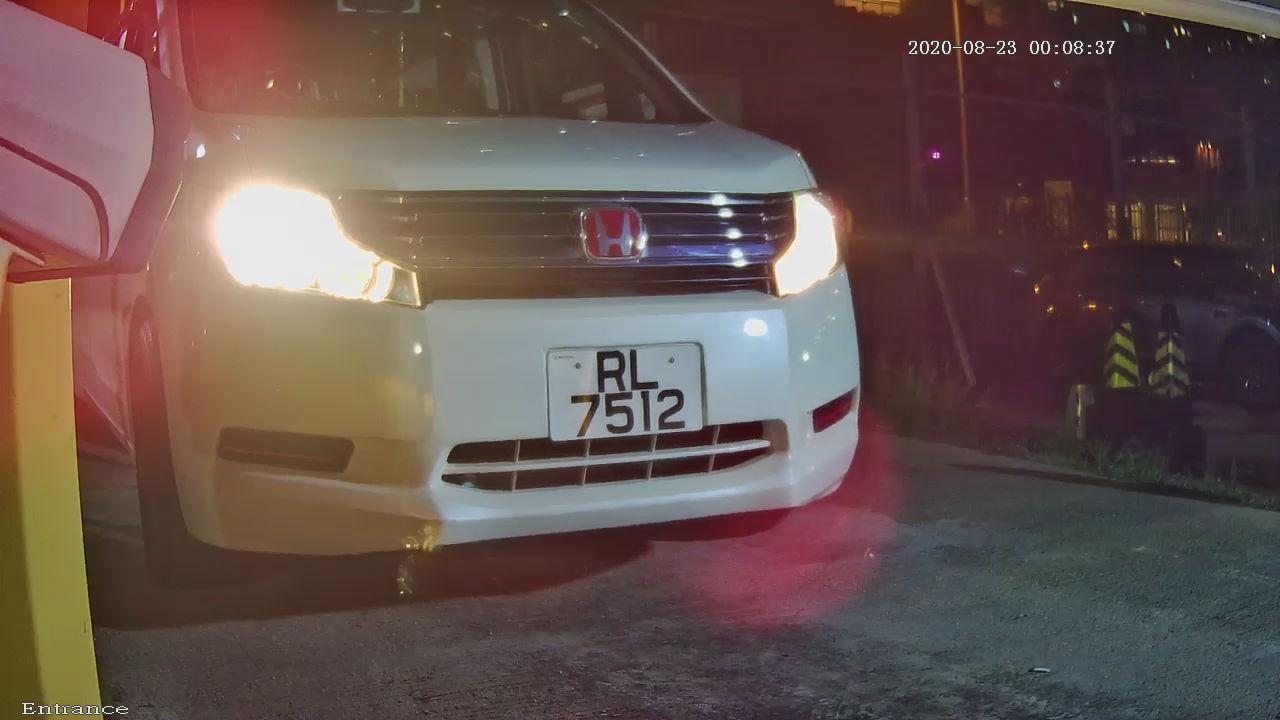Car: (46, 29, 978, 614)
License Plate: (526, 328, 721, 460)
